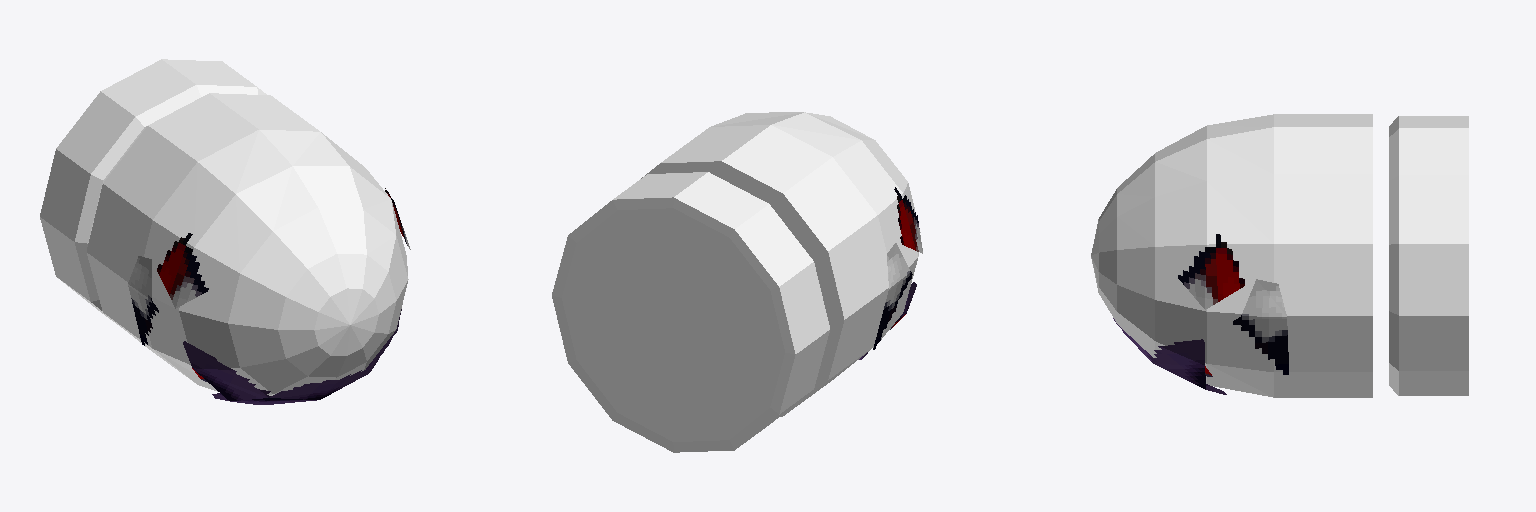
The picture shows the model from 3 angles: view 1: azimuth 30°, elevation 25°; view 2: azimuth 150°, elevation 25°; view 3: azimuth 270°, elevation 25°; orthographic projection.
Visible parts, largest first — view 1: polygon1, polygon0; view 2: polygon1, polygon0; view 3: polygon1, polygon0.
Part boxes in pixels (x1,y1,x2,y2): polygon1: (40,59,408,395); polygon0: (128,188,410,404); polygon1: (552,112,920,452); polygon0: (859,187,922,359); polygon1: (1091,114,1468,397); polygon0: (1113,234,1288,394).
Bounding box in the file's own units: 10.87 × 10.74 × 14.29.
Materials: 2 (2 with a texture image).